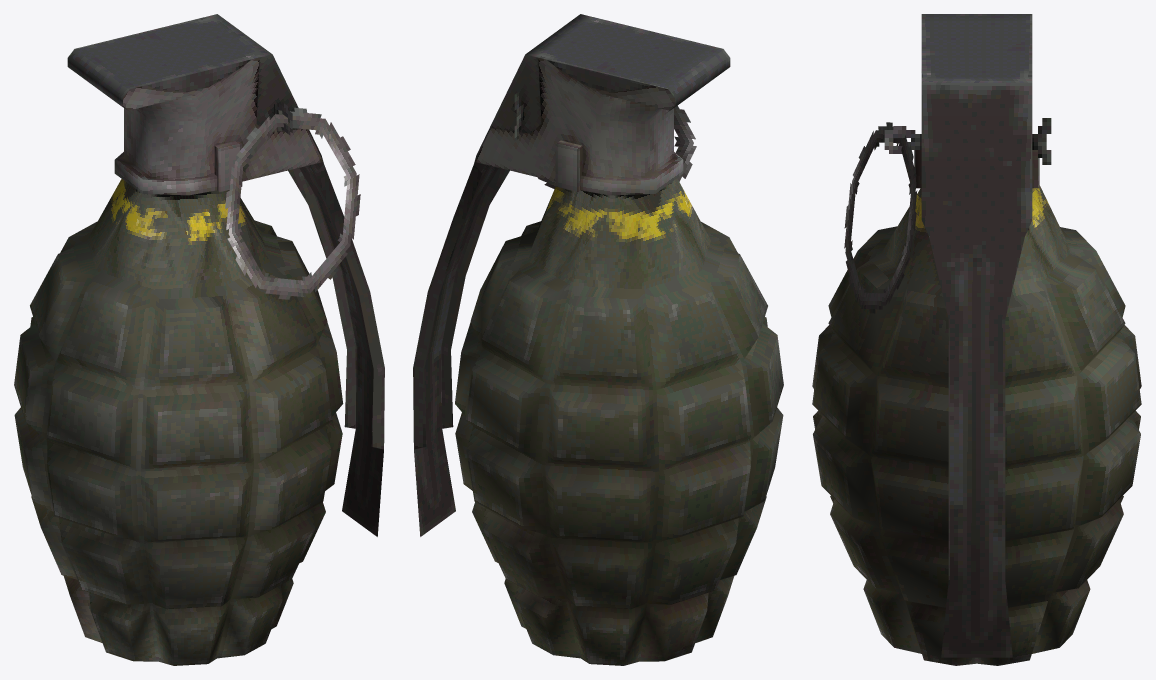
File: retro_lowpoly_psx_grenade.glb
3 views of the same model, side by side, from view 1: azimuth 30°, elevation 25°; view 2: azimuth 150°, elevation 25°; view 3: azimuth 270°, elevation 25° (orthographic).
Visible parts, largest first — view 1: GrenadeBodyLow_4, GrenadeSwitchLow_2, GrenadeTopLow_3, GrenadeRingLow_0; view 2: GrenadeBodyLow_4, GrenadeSwitchLow_2, GrenadeTopLow_3, GrenadeRingLow_0; view 3: GrenadeBodyLow_4, GrenadeSwitchLow_2, GrenadeRingLow_0, GrenadePinLow_1, GrenadeTopLow_3.
Part boxes in pixels (<box>): GrenadeBodyLow_4: <box>14,179,343,665</box>; GrenadeSwitchLow_2: <box>67,14,384,536</box>; GrenadeTopLow_3: <box>114,57,322,195</box>; GrenadeRingLow_0: <box>225,107,360,299</box>; GrenadeBodyLow_4: <box>455,178,783,665</box>; GrenadeSwitchLow_2: <box>413,14,730,536</box>; GrenadeTopLow_3: <box>475,57,683,195</box>; GrenadeRingLow_0: <box>538,105,696,188</box>; GrenadeBodyLow_4: <box>812,185,1141,665</box>; GrenadeSwitchLow_2: <box>921,14,1032,657</box>; GrenadeRingLow_0: <box>844,122,917,313</box>; GrenadePinLow_1: <box>884,118,1051,164</box>; GrenadeTopLow_3: <box>914,150,1039,230</box>.
Bounding box in the file's own units: 0.084 × 0.139 × 0.0716.
1 material, 1 textured.
